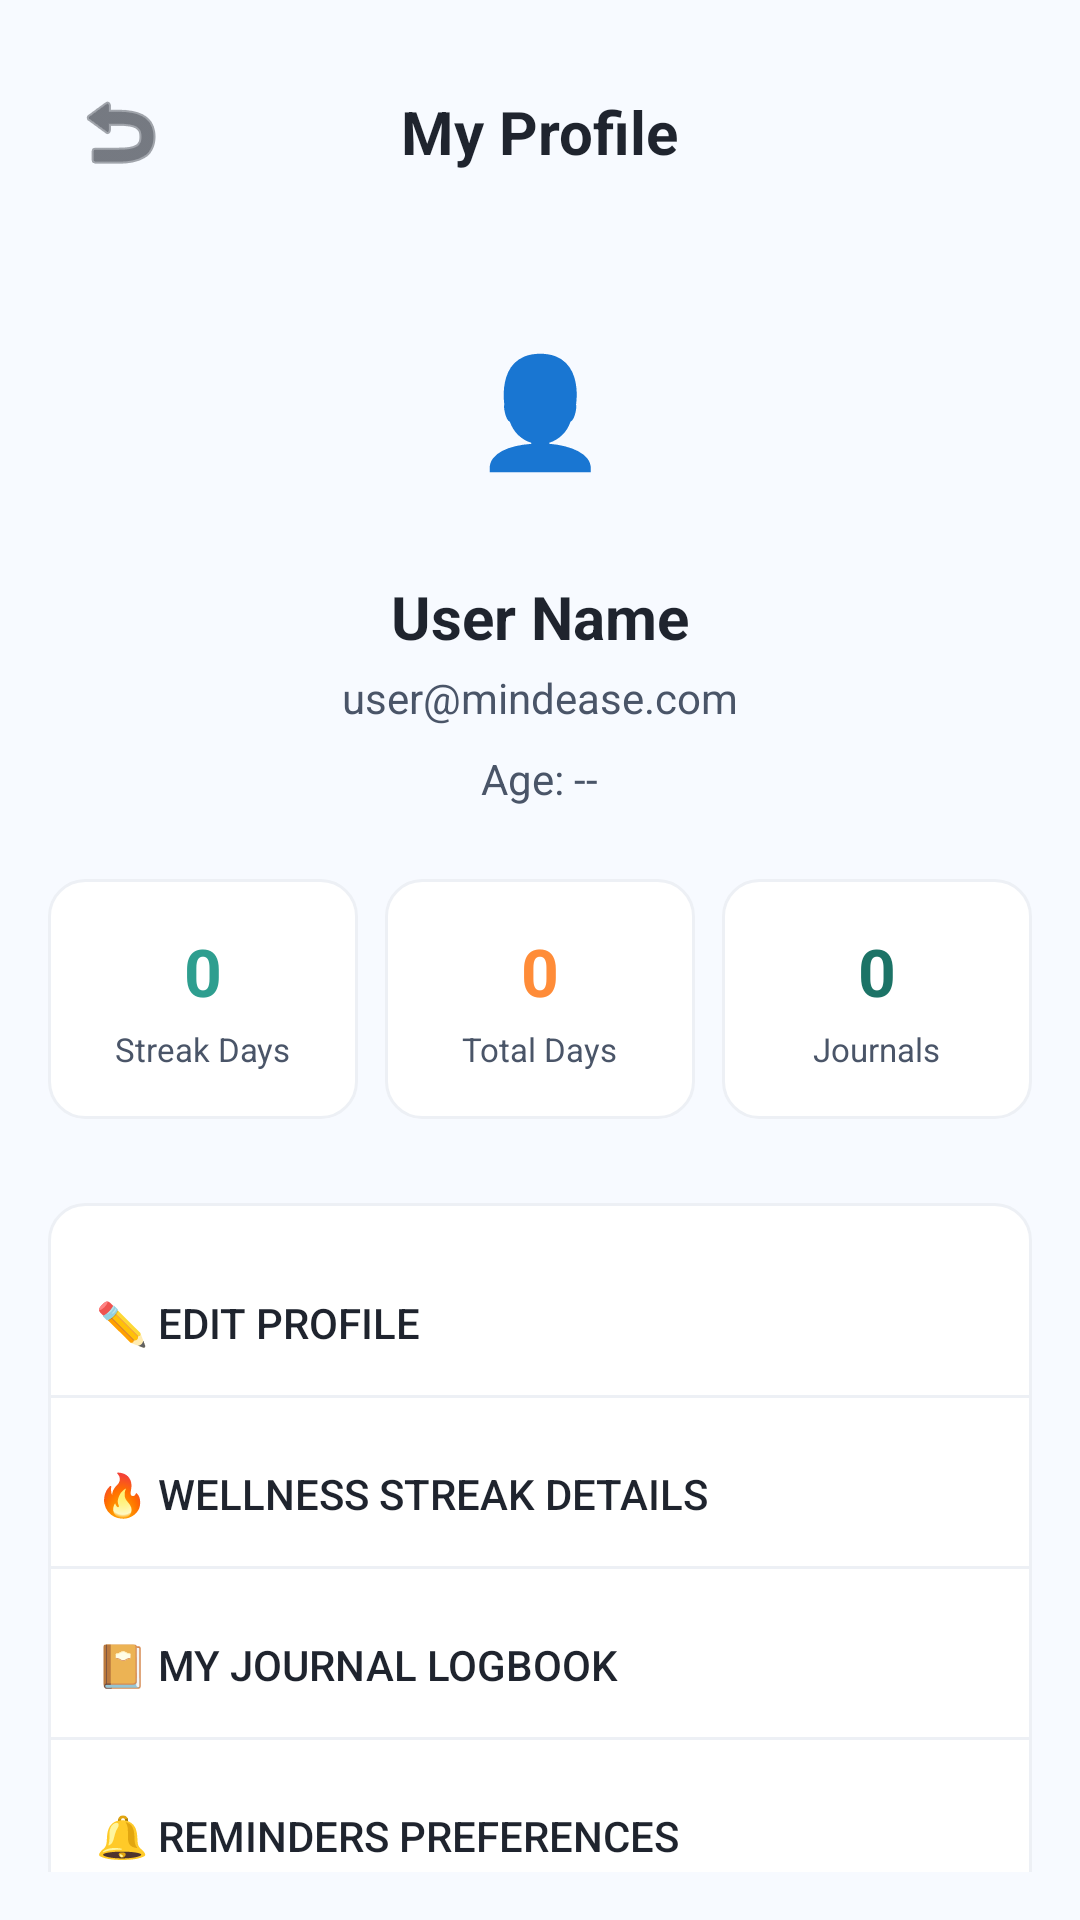

Screen size 1080w x 1920h. Icon name, then its center in pixels as [x,y]:
Back: [121,132]
